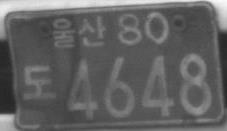0: (144, 11, 168, 44)
4: (141, 55, 175, 116), (67, 56, 98, 121)
6: (103, 55, 136, 120)
8: (179, 52, 212, 116), (117, 12, 142, 45)
도: (23, 64, 57, 100)
울산_O: (51, 15, 106, 49)
